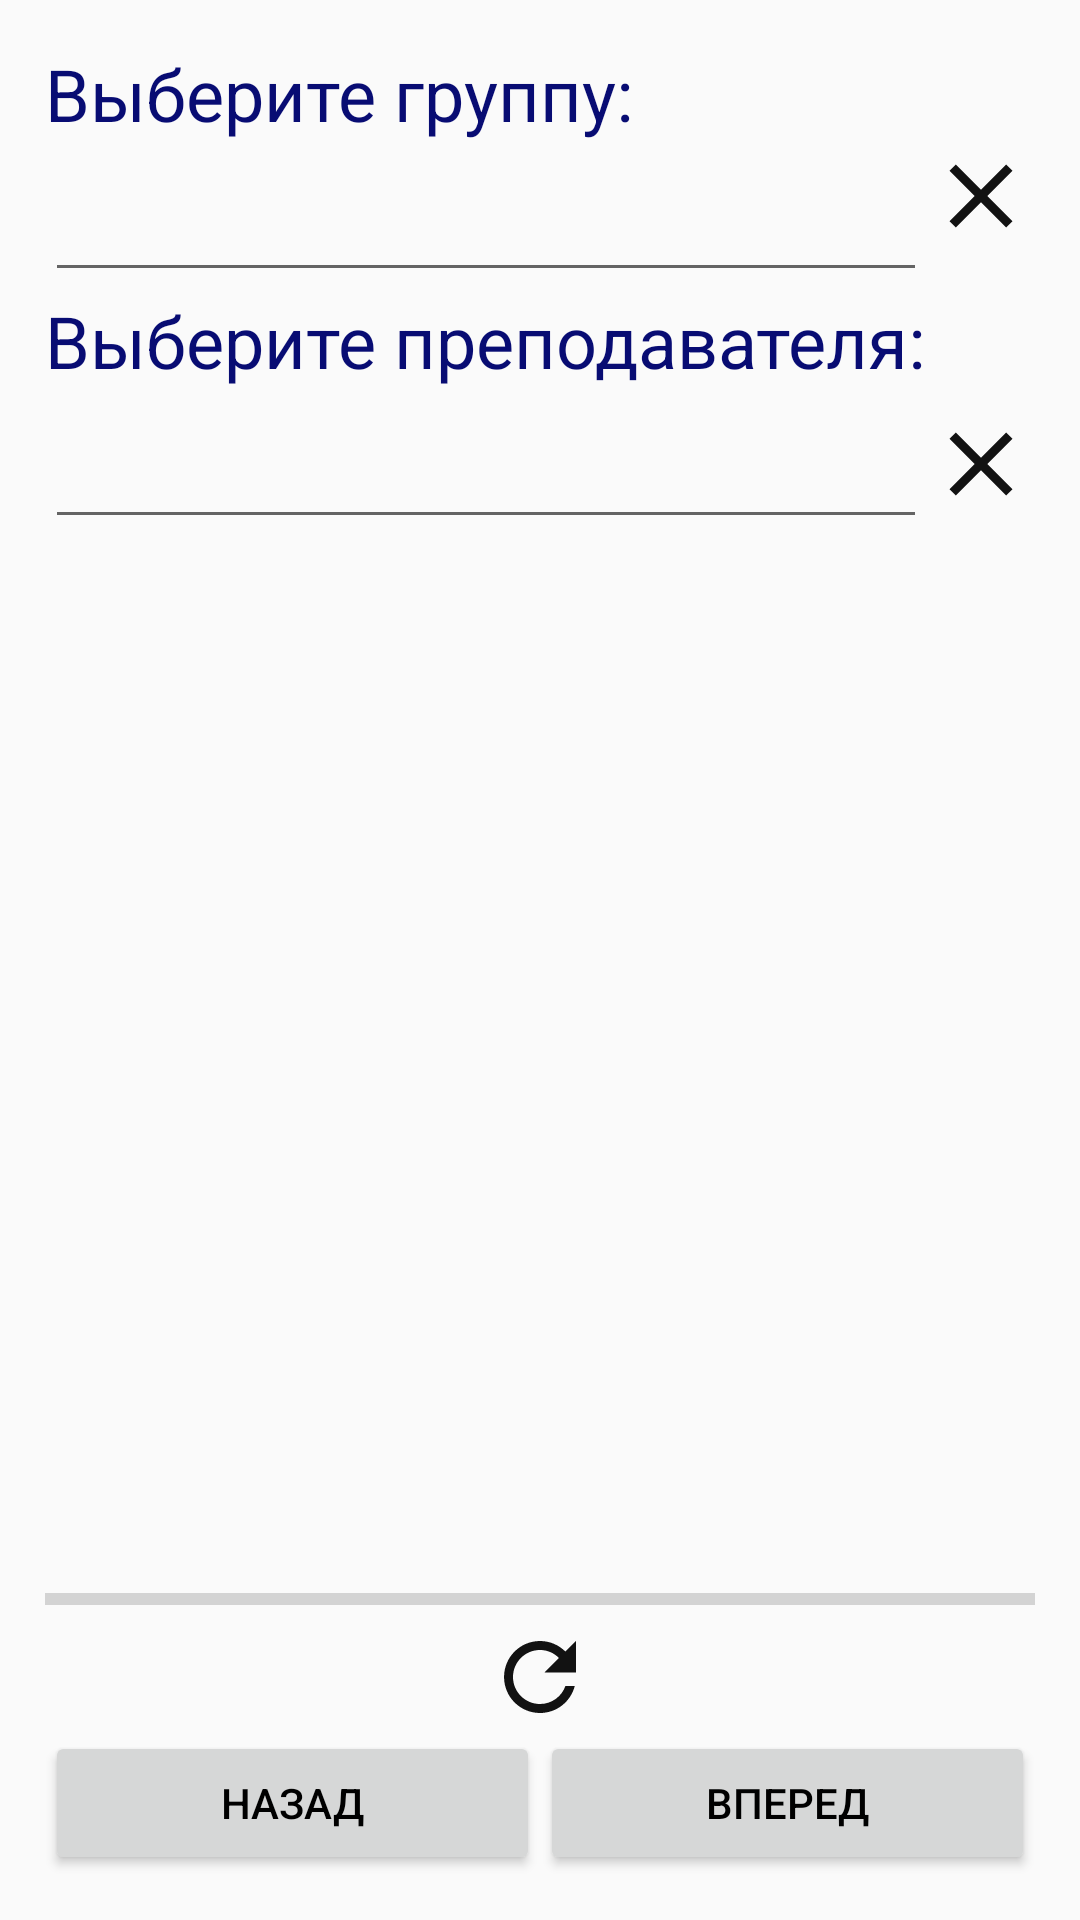

Screen size 1080*1920. Icon name, then its center in pixels as (x=x, y=y):
Обновить расписание: (x=540, y=1677)
Очистить группу: (x=981, y=196)
Очистить преподавателя: (x=981, y=464)
